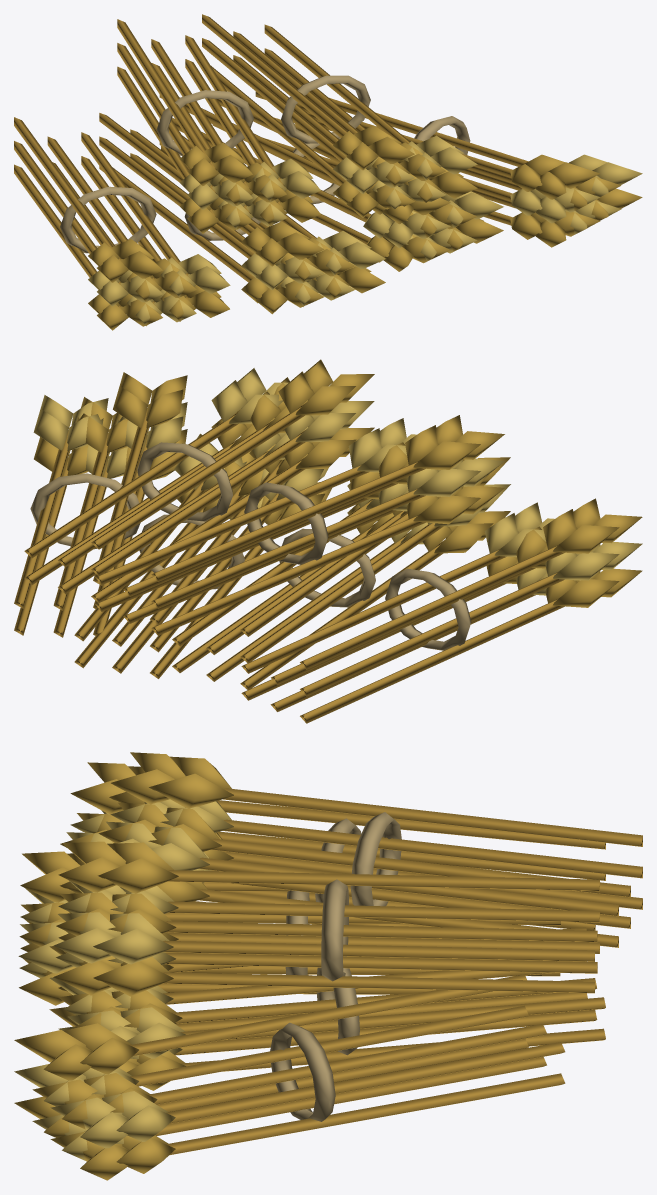
The model's file is pile-wheat-6.gltf.
The picture shows the model from 3 angles, top to bottom: view 1: azimuth 30°, elevation 25°; view 2: azimuth 150°, elevation 25°; view 3: azimuth 270°, elevation 25°; orthographic projection. The views are drawn at different scales.
Parts seen in each view (by area): view 1: pile-wheat-6; view 2: pile-wheat-6; view 3: pile-wheat-6.
Boxes of the visible parts, x1=… form: pile-wheat-6: x1=14, y1=14, x2=642, y2=330; pile-wheat-6: x1=14, y1=359, x2=642, y2=723; pile-wheat-6: x1=14, y1=752, x2=642, y2=1180.
Bounding box in the file's own units: 0.7706 × 0.1898 × 0.5968.
